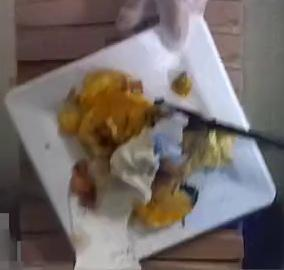scrambled_eggs: (59, 70, 158, 158), (134, 156, 194, 229)
